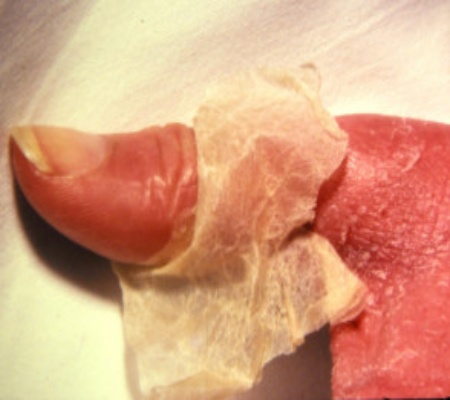SJS-TEN: (96, 48, 419, 400)
